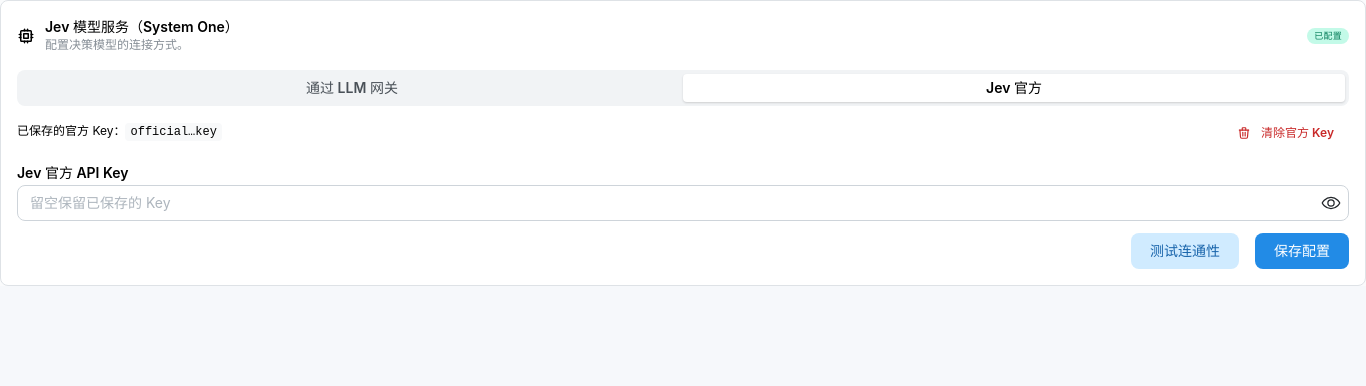
Test case: shows catalog failures and does not offer unrelated chat models or silently use official mode
Click the radio button labelled "通过 LLM 网关": click(352, 88) [306, 79, 398, 96]
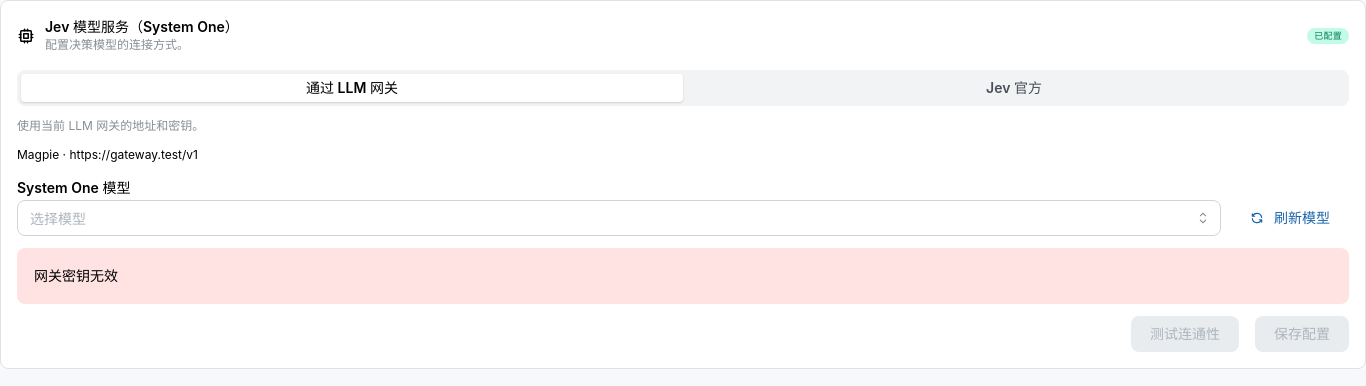
Check: the text "网关密钥无效" is shown, box [34, 267, 118, 284]
Check: the button "保存配置" is disabled, box [1255, 316, 1349, 352]
Check: the button "测试连通性" is disabled, box [1131, 316, 1239, 352]
